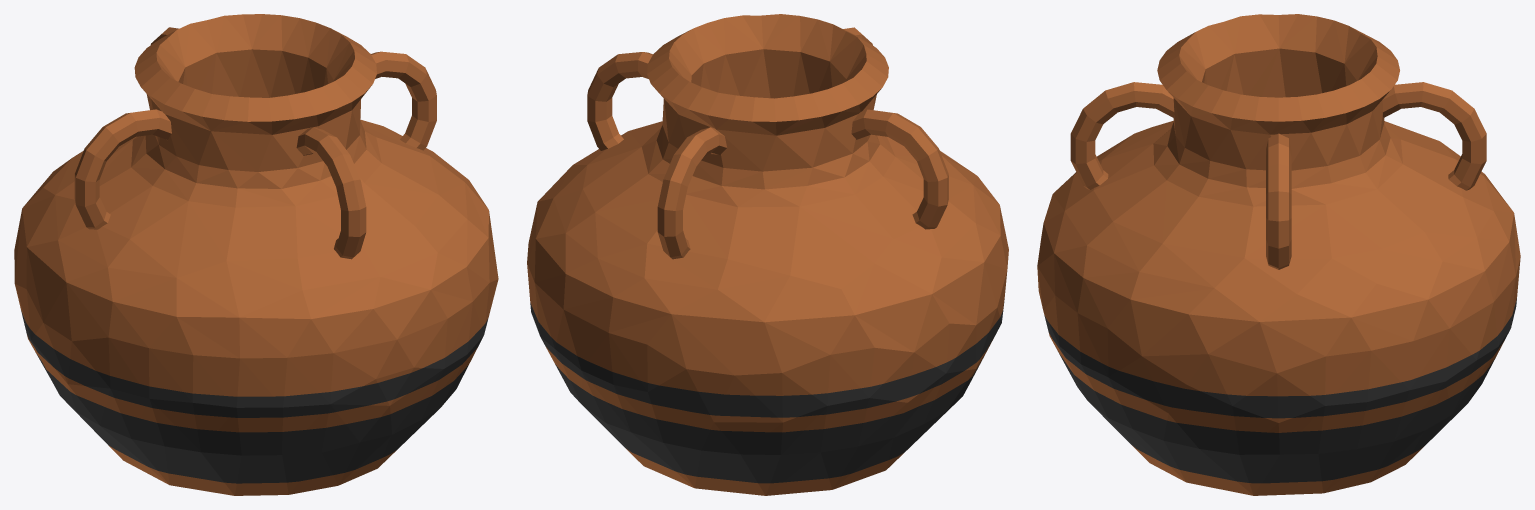
File: Pottery 15_3b.fbx
3 views of the same model, side by side, from view 1: azimuth 30°, elevation 25°; view 2: azimuth 150°, elevation 25°; view 3: azimuth 270°, elevation 25° (orthographic).
Visible parts, largest first — view 1: Pottery 15_3.001, Pottery 15_3.004, Pottery 15_3.008, Pottery 15_3.010, Pottery 15_3.005, Pottery 15_3.007, Pottery 15_3b, Pottery 15_3.006, Pottery 15_3.003, Pottery 15_3.009; view 2: Pottery 15_3.003, Pottery 15_3.009, Pottery 15_3.004, Pottery 15_3b, Pottery 15_3.007, Pottery 15_3.006, Pottery 15_3.001, Pottery 15_3.005; view 3: Pottery 15_3.006, Pottery 15_3b, Pottery 15_3.003, Pottery 15_3.005, Pottery 15_3.001, Pottery 15_3.004, Pottery 15_3.008, Pottery 15_3.009.
Part boxes in pixels (left/top/right/bottom): Pottery 15_3.001: left=108, top=87, right=379, bottom=358; Pottery 15_3.004: left=22, top=38, right=211, bottom=282; Pottery 15_3.008: left=282, top=277, right=472, bottom=454; Pottery 15_3.010: left=100, top=348, right=287, bottom=465; Pottery 15_3.005: left=318, top=58, right=489, bottom=301; Pottery 15_3.007: left=14, top=247, right=149, bottom=425; Pottery 15_3b: left=65, top=238, right=498, bottom=495; Pottery 15_3.006: left=270, top=18, right=498, bottom=276; Pottery 15_3.003: left=132, top=14, right=299, bottom=139; Pottery 15_3.009: left=14, top=139, right=132, bottom=282; Pottery 15_3.003: left=527, top=59, right=799, bottom=332; Pottery 15_3.009: left=609, top=207, right=931, bottom=422; Pottery 15_3.004: left=762, top=54, right=984, bottom=314; Pottery 15_3b: left=527, top=205, right=957, bottom=495; Pottery 15_3.007: left=870, top=223, right=1008, bottom=437; Pottery 15_3.006: left=538, top=18, right=739, bottom=201; Pottery 15_3.001: left=771, top=16, right=1008, bottom=248; Pottery 15_3.005: left=724, top=14, right=800, bottom=98; Pottery 15_3.006: left=1130, top=90, right=1381, bottom=405; Pottery 15_3b: left=1059, top=276, right=1516, bottom=495; Pottery 15_3.003: left=1334, top=34, right=1515, bottom=340; Pottery 15_3.005: left=1054, top=64, right=1230, bottom=328; Pottery 15_3.001: left=1053, top=22, right=1243, bottom=210; Pottery 15_3.004: left=1224, top=14, right=1427, bottom=136; Pottery 15_3.008: left=1037, top=194, right=1077, bottom=384; Pottery 15_3.009: left=1384, top=121, right=1520, bottom=303.
Size of the model in its own units: 53.28 by 45.94 by 52.99.
